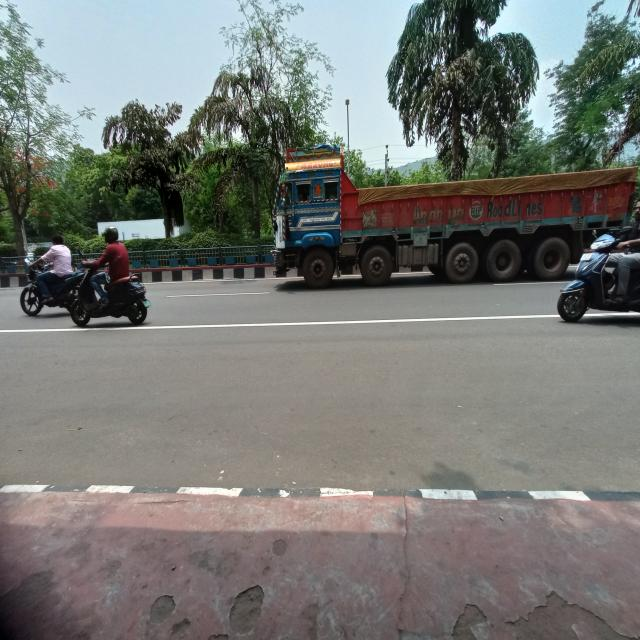bike: (557, 221, 639, 328), (71, 256, 155, 337), (20, 262, 72, 318)
